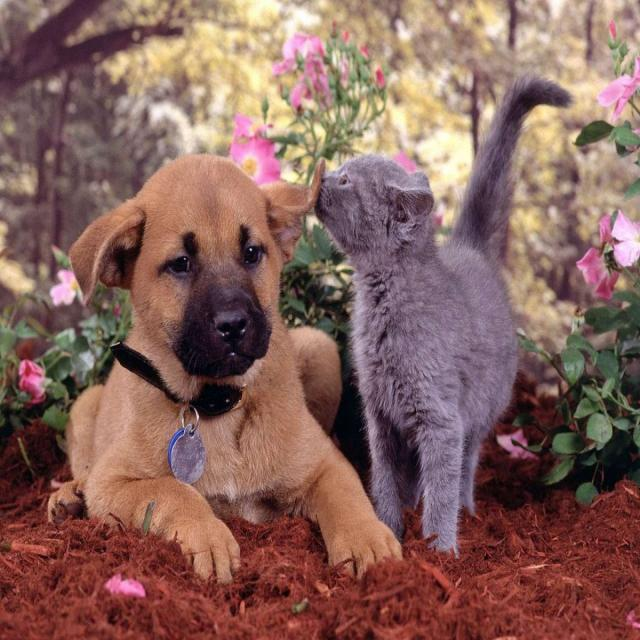Dogs: (47, 150, 406, 595)
